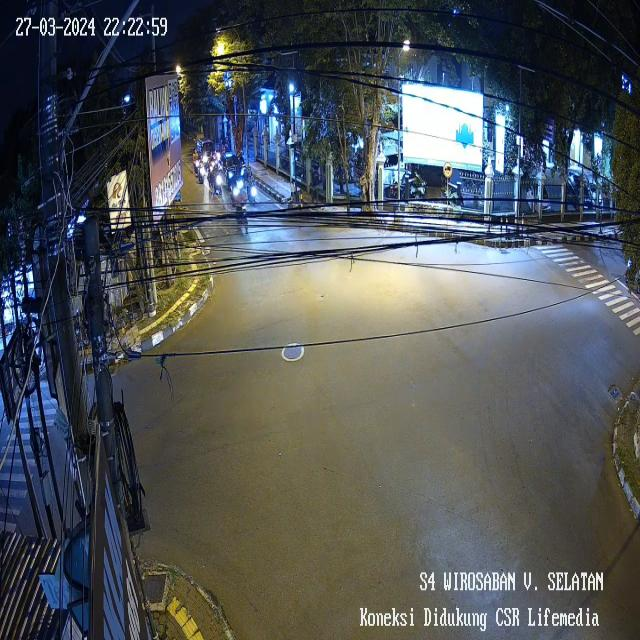car: (220, 149, 246, 190), (196, 136, 220, 166)
motorcycle: (234, 192, 250, 235), (246, 170, 258, 208), (234, 166, 247, 198), (212, 168, 222, 199), (196, 158, 206, 186), (238, 148, 248, 174), (192, 147, 200, 179), (205, 160, 214, 188), (230, 182, 239, 207)
